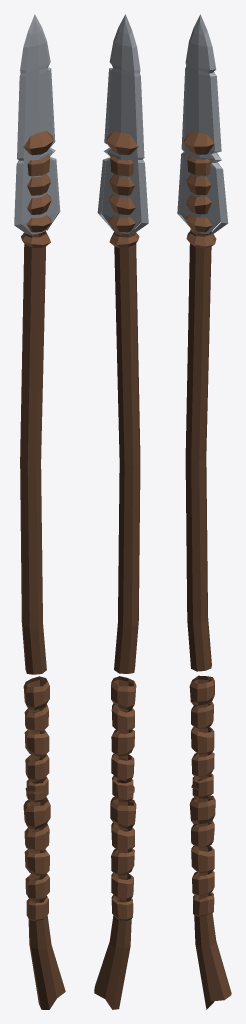
File: armory-lanceman-4.glb
3 views of the same model, side by side, from view 1: azimuth 30°, elevation 25°; view 2: azimuth 150°, elevation 25°; view 3: azimuth 330°, elevation 25° (orthographic).
Visible parts, largest first — view 1: Spear_Cylinder.031; view 2: Spear_Cylinder.031; view 3: Spear_Cylinder.031.
Part boxes in pixels (bbox=[...]): Spear_Cylinder.031: bbox=[14, 14, 65, 1009]; Spear_Cylinder.031: bbox=[94, 14, 148, 1009]; Spear_Cylinder.031: bbox=[177, 14, 231, 1009].
Size of the model in its own units: 0.5924 by 10.93 by 0.3411.
